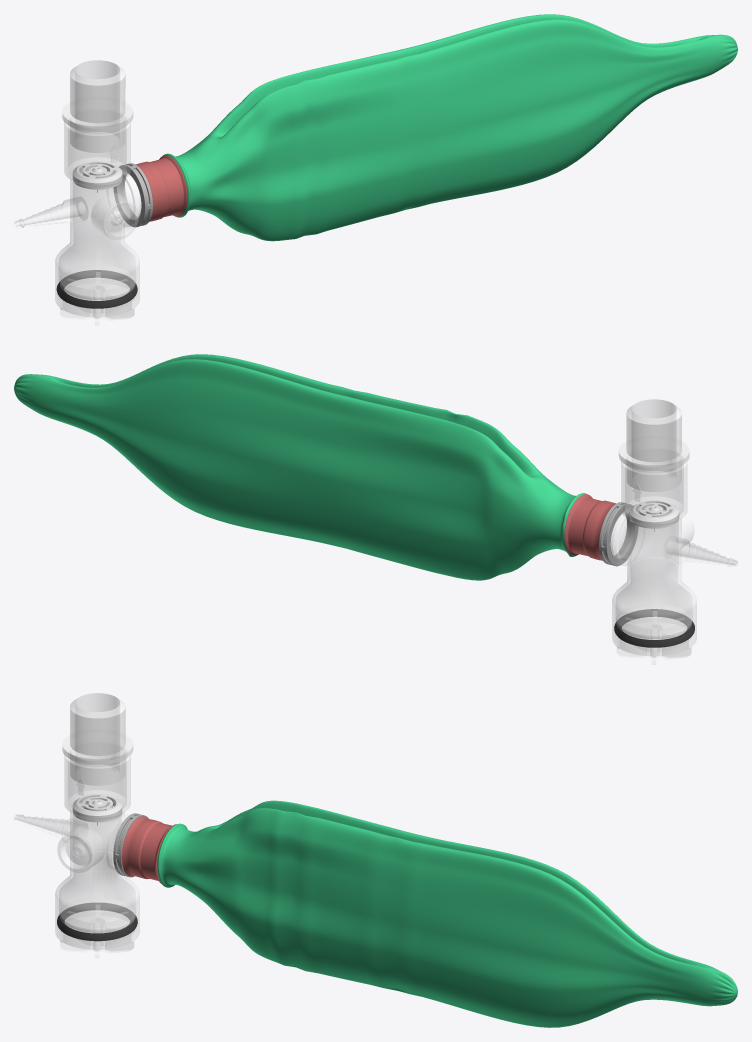
File: O2 Bag and connector-06.glb
3 renders of one model, top to bottom at view 1: azimuth 30°, elevation 25°; view 2: azimuth 150°, elevation 25°; view 3: azimuth 330°, elevation 25°, orthographic.
Visible parts, largest first — view 1: Circle001, Line031, Line030, Line032, ChamferCyl026, Line034, Cylinder003, Torus001, Line035, Line001; view 2: Circle001, Line031, Line030, Line032, ChamferCyl026, Cylinder003, Torus001, Line035, Line001; view 3: Circle001, Line031, Line030, Line032, ChamferCyl026, Line034, Torus001, Line035, Line001, Cylinder003.
Boxes of the visible parts, x1,y1,x2,y2 form: Circle001: (163, 14, 737, 241); Line031: (55, 122, 141, 325); Line030: (62, 60, 133, 152); Line032: (135, 155, 187, 221); ChamferCyl026: (60, 265, 135, 299); Line034: (91, 193, 138, 239); Cylinder003: (113, 163, 152, 227); Torus001: (56, 270, 137, 308); Line035: (72, 161, 122, 192); Line001: (14, 197, 87, 227); Circle001: (14, 354, 586, 580); Line031: (610, 461, 696, 664); Line030: (618, 399, 689, 491); Line032: (564, 494, 615, 560); ChamferCyl026: (616, 604, 691, 638); Cylinder003: (599, 502, 638, 566); Torus001: (614, 609, 694, 647); Line035: (629, 500, 679, 531); Line001: (664, 536, 737, 566); Circle001: (157, 800, 737, 1027); Line031: (55, 755, 139, 957); Line030: (62, 693, 133, 785); Line032: (121, 816, 177, 883); ChamferCyl026: (60, 897, 135, 932); Line034: (57, 826, 104, 872); Torus001: (57, 903, 137, 941); Line035: (72, 794, 122, 825); Line001: (14, 814, 87, 842); Cylinder003: (113, 813, 148, 877).
Size of the model in its own units: 17.15 by 5.59 by 1.83.
